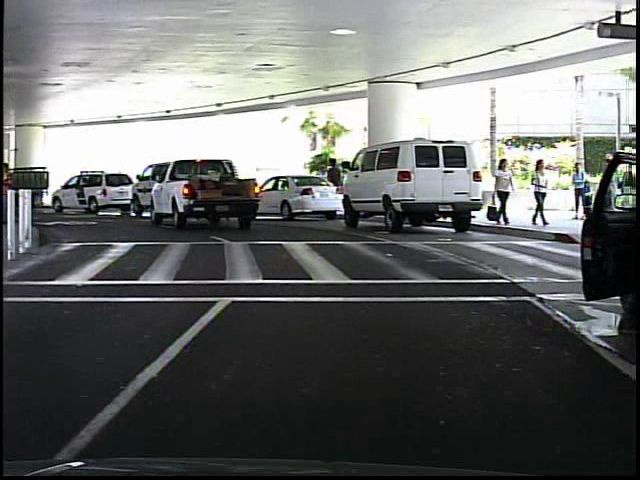person: (526, 155, 554, 229), (566, 159, 592, 221), (492, 155, 513, 227), (326, 154, 347, 214)
